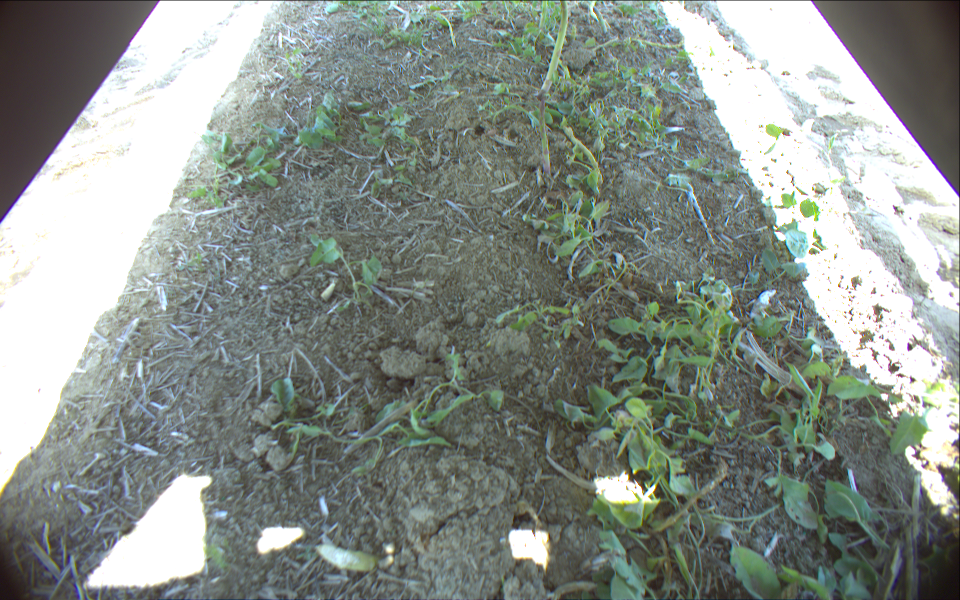aspa: (537, 1, 570, 97), (567, 127, 602, 183), (536, 92, 551, 174), (620, 37, 684, 47), (438, 13, 456, 47), (589, 1, 609, 27), (596, 6, 609, 31), (539, 1, 548, 29)
